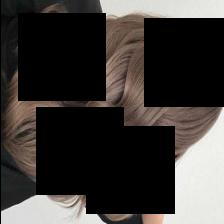brown: (0, 5, 224, 220)
